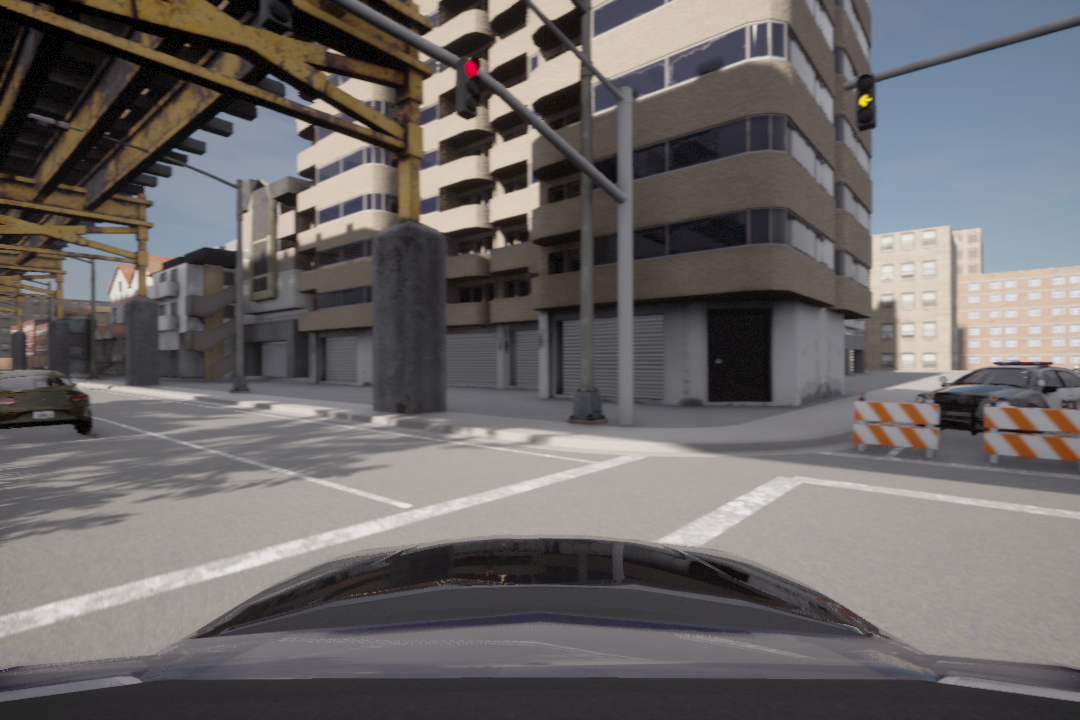TrafficLight: (452, 52, 484, 119), (856, 73, 881, 132)
